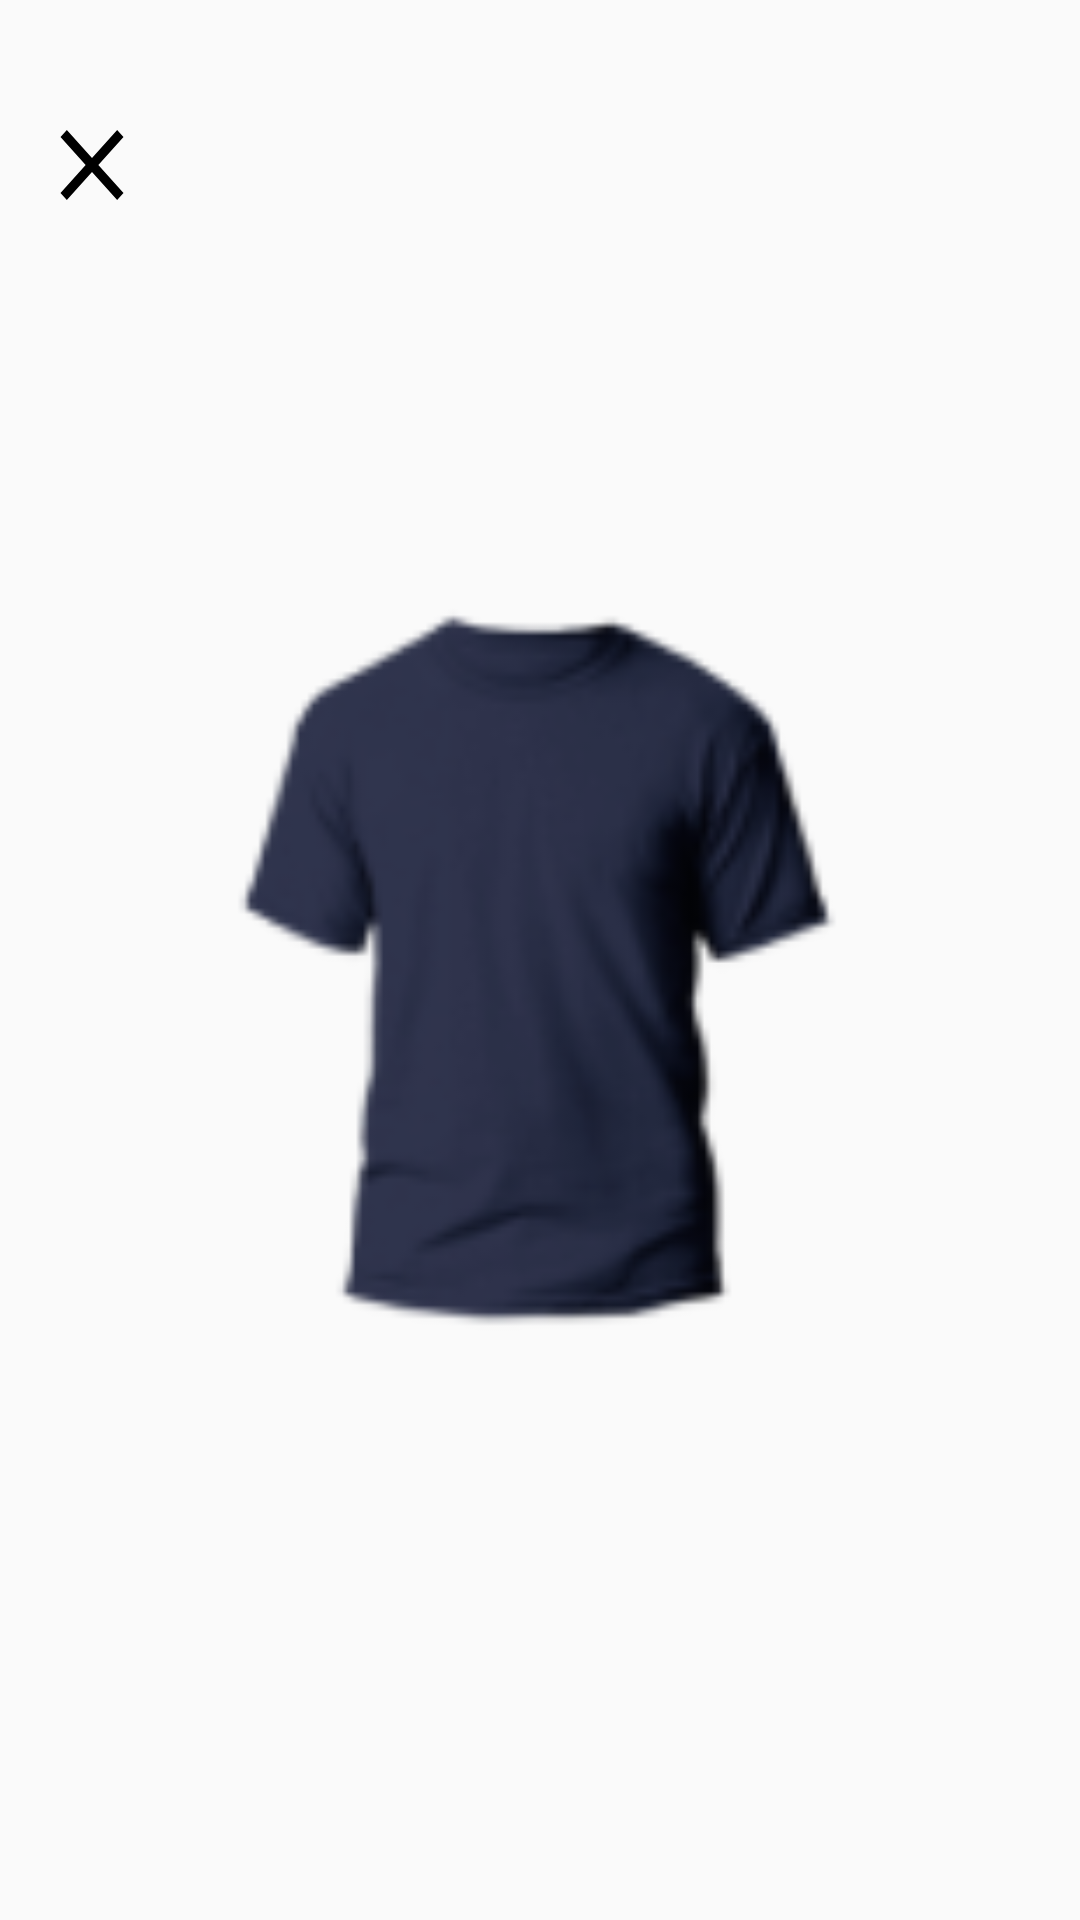

Icons on this 1080*1920 Android screen, each with its box as (x1, y1, x2, y2):
close: (60, 130, 124, 200)
